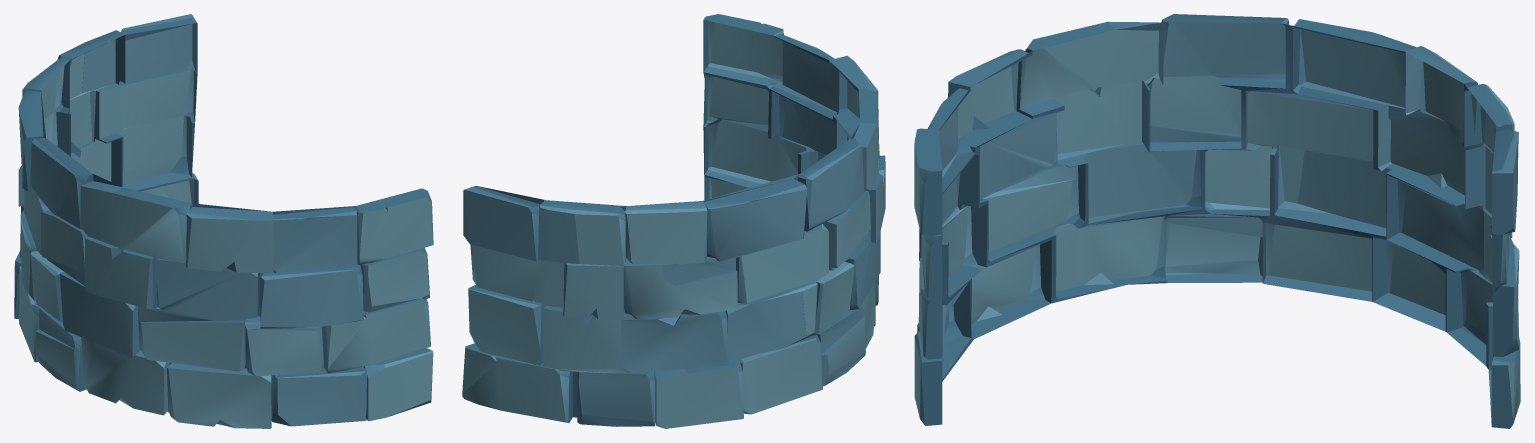
Rendered from BendWall.FBX.
3 views of the same model, side by side, from view 1: azimuth 30°, elevation 25°; view 2: azimuth 150°, elevation 25°; view 3: azimuth 270°, elevation 25° (orthographic). The views are drawn at different scales.
Parts seen in each view (by area): view 1: Bendwall; view 2: Bendwall; view 3: Bendwall.
Boxes of the visible parts, x1,y1,x2,y2 form: Bendwall: [14, 14, 433, 428]; Bendwall: [462, 14, 885, 428]; Bendwall: [914, 14, 1520, 428].
Bounding box in the file's own units: 286 × 222 × 466.
